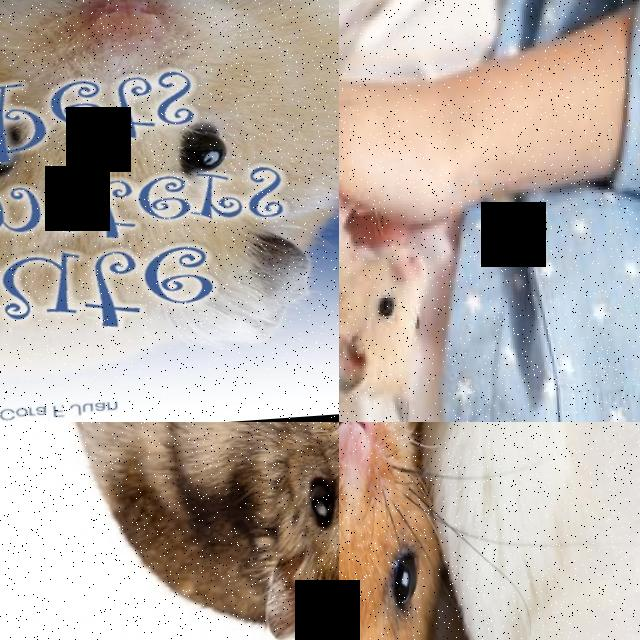hamster: (2, 422, 339, 640), (339, 422, 468, 640), (339, 188, 442, 422)
